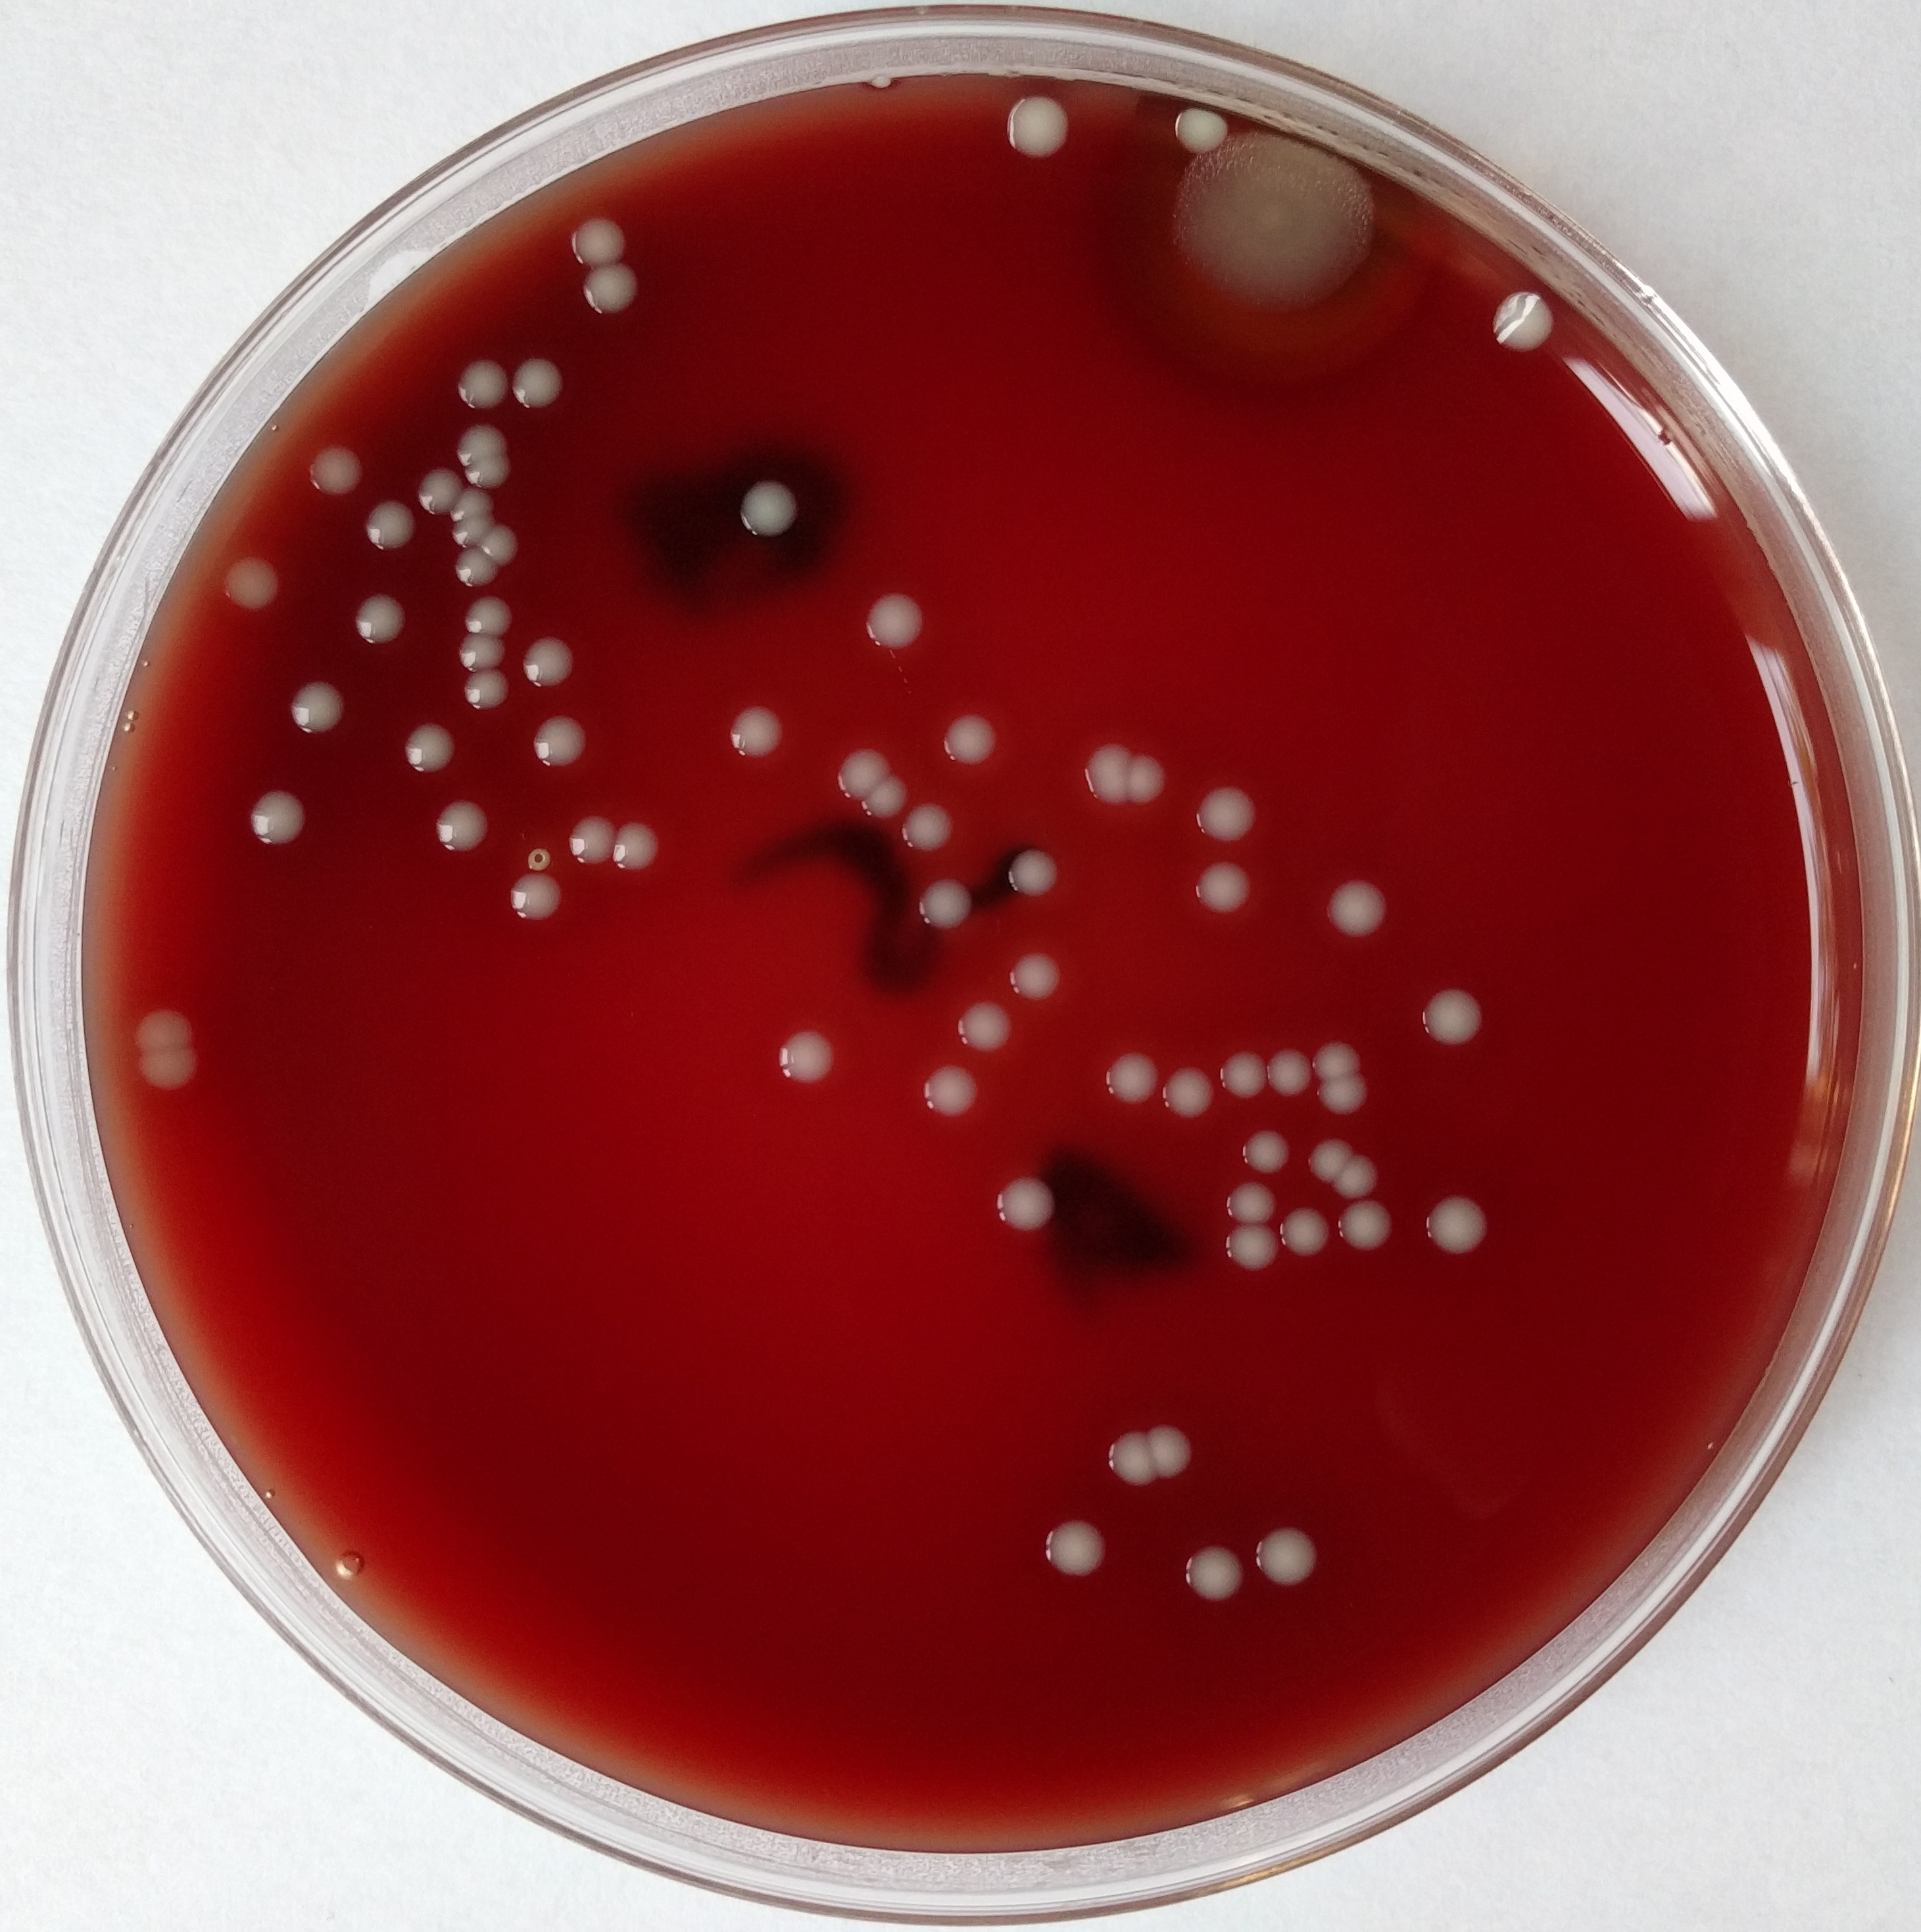sp01: (978, 1167, 1071, 1242), (997, 84, 1077, 171), (237, 772, 313, 857), (855, 579, 931, 662), (732, 468, 813, 544), (1033, 1504, 1115, 1577), (1186, 779, 1265, 853), (507, 345, 581, 424), (1478, 287, 1559, 359), (1154, 91, 1237, 160), (920, 1059, 996, 1133), (215, 549, 294, 619), (714, 699, 797, 765), (1245, 1519, 1321, 1591), (1170, 1536, 1249, 1603), (1420, 978, 1499, 1043), (1319, 867, 1386, 943), (909, 867, 976, 943), (1423, 1193, 1494, 1262), (1332, 1186, 1399, 1258), (946, 991, 1019, 1057), (526, 706, 589, 781), (1098, 1047, 1165, 1116), (348, 582, 415, 651), (449, 348, 519, 413), (127, 998, 202, 1057), (1184, 855, 1260, 913), (287, 676, 352, 743), (568, 201, 632, 267), (396, 711, 459, 778), (1004, 841, 1064, 911), (1305, 1024, 1365, 1093), (1098, 1423, 1158, 1492), (774, 1026, 843, 1086), (1077, 732, 1138, 797), (939, 702, 999, 769), (503, 867, 570, 927), (429, 790, 489, 857), (572, 262, 640, 320), (507, 628, 577, 684), (406, 456, 470, 517), (566, 813, 632, 873), (832, 741, 892, 804), (357, 494, 420, 554), (306, 435, 362, 501), (1300, 1066, 1376, 1116), (1277, 1198, 1333, 1262), (1159, 1059, 1217, 1119), (127, 1043, 202, 1089), (461, 406, 515, 470), (617, 813, 665, 885), (1143, 1416, 1194, 1483), (1209, 1043, 1272, 1096), (1223, 1219, 1284, 1272), (1219, 1179, 1282, 1230), (1238, 1124, 1302, 1174), (1265, 1033, 1311, 1100), (1004, 948, 1068, 996), (461, 669, 515, 723), (855, 771, 911, 823), (452, 473, 505, 528), (464, 449, 519, 501), (461, 588, 515, 639), (1326, 1147, 1383, 1197), (1119, 748, 1165, 808), (449, 538, 501, 589), (449, 625, 505, 670), (480, 517, 531, 563), (1300, 1137, 1353, 1181), (901, 806, 953, 850)
